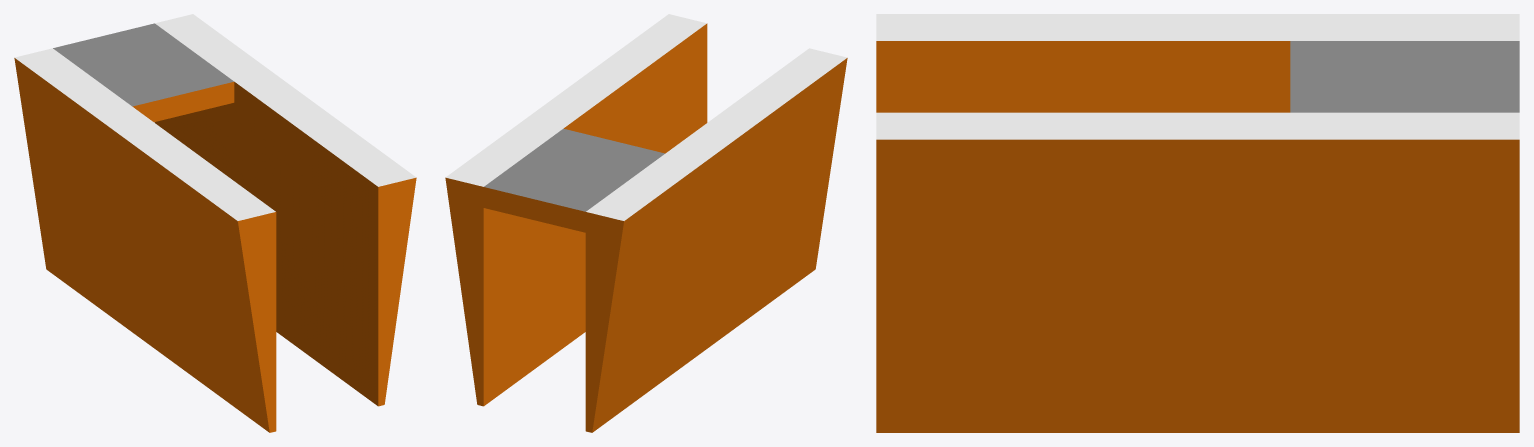
The model's file is CageATallPlatformframeA.fbx.
3 renders of one model, left to right at view 1: azimuth 30°, elevation 25°; view 2: azimuth 150°, elevation 25°; view 3: azimuth 270°, elevation 25°, orthographic. The views are drawn at different scales.
Parts seen in each view (by area): view 1: CageATallPlatformframeA, CageAPlatformA; view 2: CageATallPlatformframeA, CageAPlatformA; view 3: CageATallPlatformframeA, CageAPlatformA.
Boxes of the visible parts, box(x1,y1,x2,y2) form: CageATallPlatformframeA: box(14, 14, 416, 432); CageAPlatformA: box(53, 23, 234, 121); CageATallPlatformframeA: box(445, 14, 847, 432); CageAPlatformA: box(483, 128, 664, 232); CageATallPlatformframeA: box(876, 14, 1519, 432); CageAPlatformA: box(1290, 41, 1519, 112).
Size of the model in its own units: 1103 by 1294 by 2388.
1 material, 1 textured.
